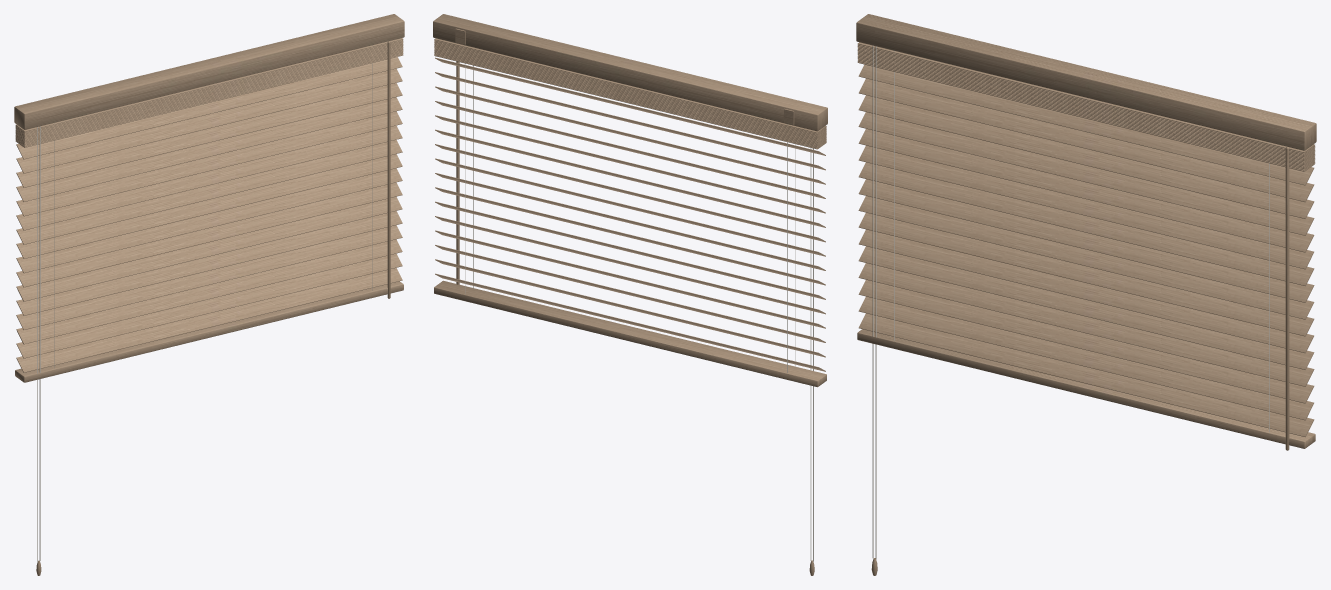
Rendered from veneciana_madera_140_c50.glb.
3 views of the same model, side by side, from view 1: azimuth 30°, elevation 25°; view 2: azimuth 150°, elevation 25°; view 3: azimuth 330°, elevation 25° (orthographic). The views are drawn at different scales.
Parts seen in each view (by area): view 1: veneciana_madera_140_c50; view 2: veneciana_madera_140_c50; view 3: veneciana_madera_140_c50.
Part boxes in pixels (x1,y1,x2,y2): veneciana_madera_140_c50: (14,14,404,575); veneciana_madera_140_c50: (433,14,827,575); veneciana_madera_140_c50: (856,14,1316,575).
Bounding box in the file's own units: 1.2 × 1.4 × 0.0639.
2 materials, 1 textured.
